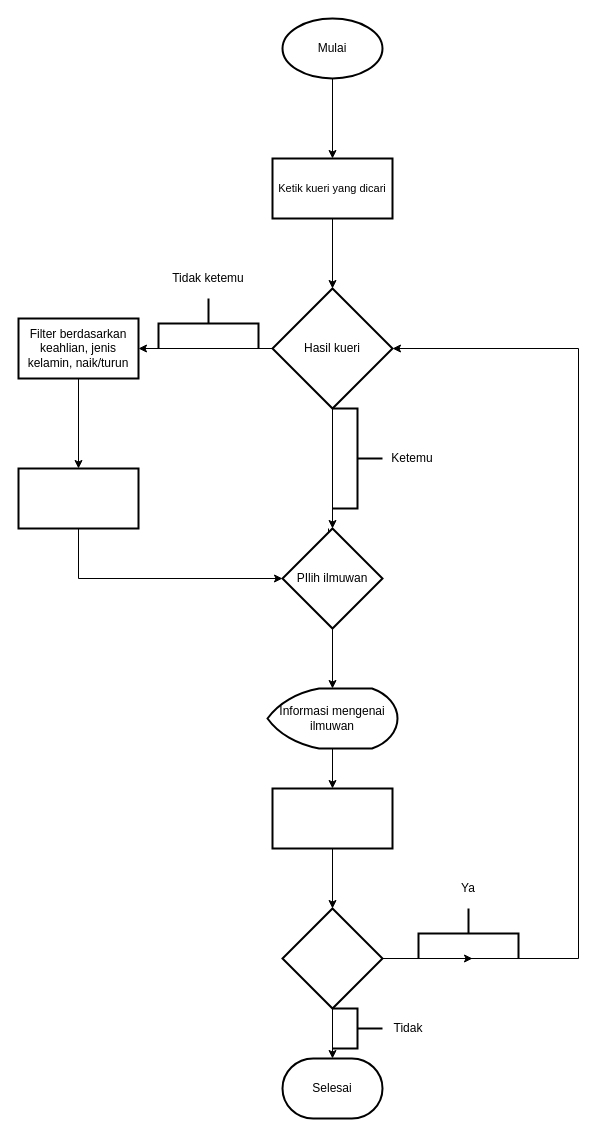
This 604x1136 diagram has some shape labels left out. Here are the shapes that lost their labels. From the top down, the centre of each, then its label:
At point (78, 498): "Menampilkan hasil filter".
At point (332, 818): "Hubungi Ilmuwan".
At point (332, 958): "Cari lagi".
